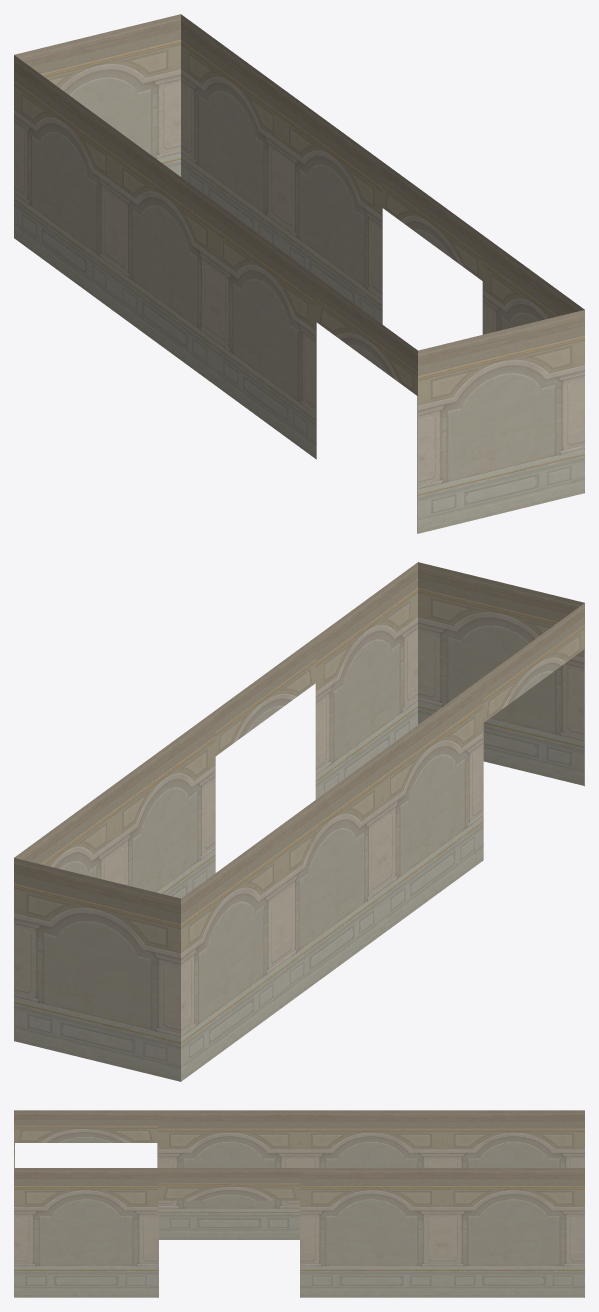
Rendered from Homeworld_Interior_Fd_Room_O_Filling_01_Vo.fbx.
The picture shows the model from 3 angles, top to bottom: view 1: azimuth 30°, elevation 25°; view 2: azimuth 150°, elevation 25°; view 3: azimuth 270°, elevation 25°; orthographic projection. The views are drawn at different scales.
Parts seen in each view (by area): view 1: Homeworld_Interior_Fd_Room_O_Filling_01_Vo; view 2: Homeworld_Interior_Fd_Room_O_Filling_01_Vo; view 3: Homeworld_Interior_Fd_Room_O_Filling_01_Vo.
Boxes of the visible parts, <box> form: Homeworld_Interior_Fd_Room_O_Filling_01_Vo: <box>14,14,584,533</box>; Homeworld_Interior_Fd_Room_O_Filling_01_Vo: <box>14,562,584,1081</box>; Homeworld_Interior_Fd_Room_O_Filling_01_Vo: <box>14,1110,584,1297</box>.
Bounding box in the file's own units: 4.75 × 4.98 × 19.9.
